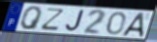2: (82, 9, 107, 36)
A: (121, 12, 146, 38)
J: (65, 9, 85, 32)
O: (105, 12, 127, 36)
Q: (20, 6, 44, 31)
Z: (38, 7, 66, 31)
